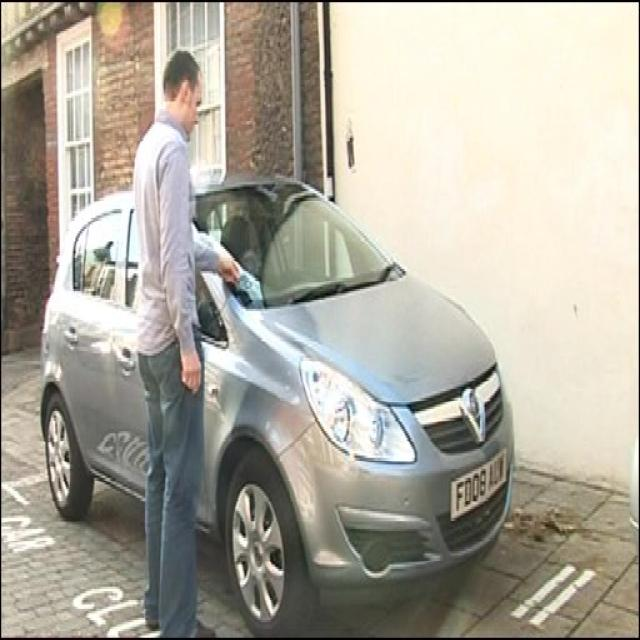Car: (39, 165, 518, 640)
